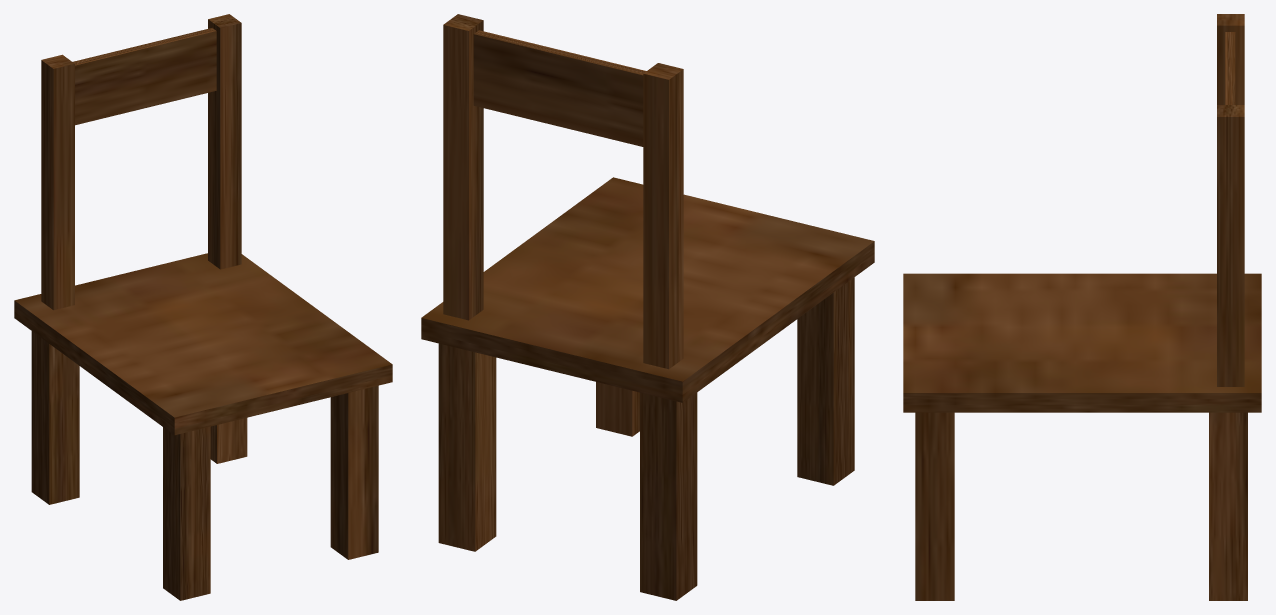
Rendered from chair.fbx.
3 views of the same model, side by side, from view 1: azimuth 30°, elevation 25°; view 2: azimuth 150°, elevation 25°; view 3: azimuth 270°, elevation 25° (orthographic). The views are drawn at different scales.
Parts seen in each view (by area): view 1: Cube.001; view 2: Cube.001; view 3: Cube.001.
Boxes of the visible parts, box(x1,y1,x2,y2) form: Cube.001: box(14, 14, 392, 600); Cube.001: box(421, 14, 874, 600); Cube.001: box(903, 14, 1261, 600).
Size of the model in its own units: 361 by 683 by 459.
1 material, 1 textured.
